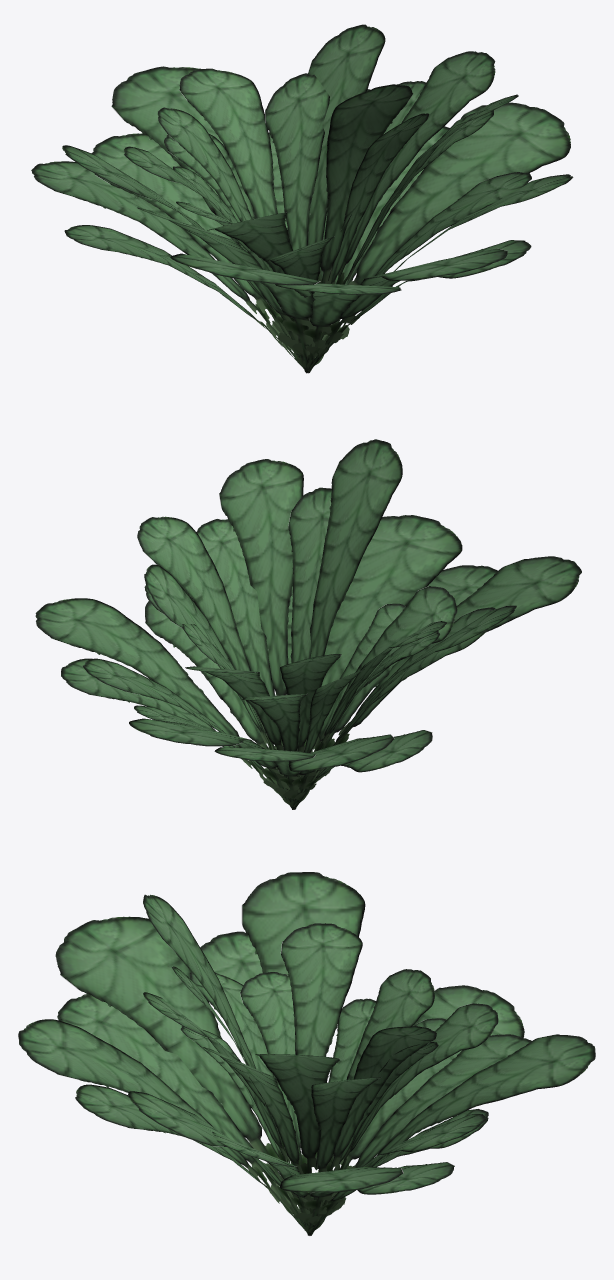
Rendered from PalmSprout.fbx.
3 views of the same model, one above another, from view 1: azimuth 30°, elevation 25°; view 2: azimuth 150°, elevation 25°; view 3: azimuth 270°, elevation 25° (orthographic). The views are drawn at different scales.
Parts seen in each view (by area): view 1: PalmSprout; view 2: PalmSprout; view 3: PalmSprout.
Boxes of the visible parts, bbox=[...] form: PalmSprout: bbox=[31, 24, 573, 373]; PalmSprout: bbox=[35, 439, 581, 809]; PalmSprout: bbox=[18, 872, 595, 1235].
Size of the model in its own units: 213 by 144 by 220.
Materials: 1 (1 with a texture image).
